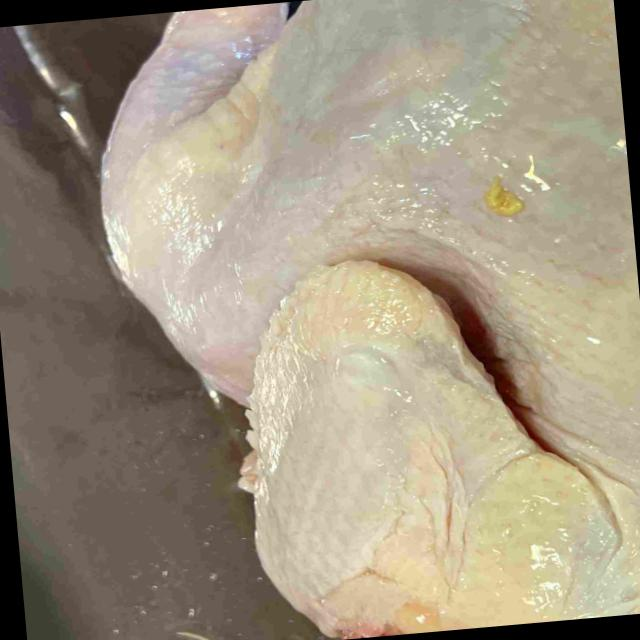back: (333, 0, 640, 616)
leg: (103, 2, 289, 394)
wing: (251, 263, 623, 640)
